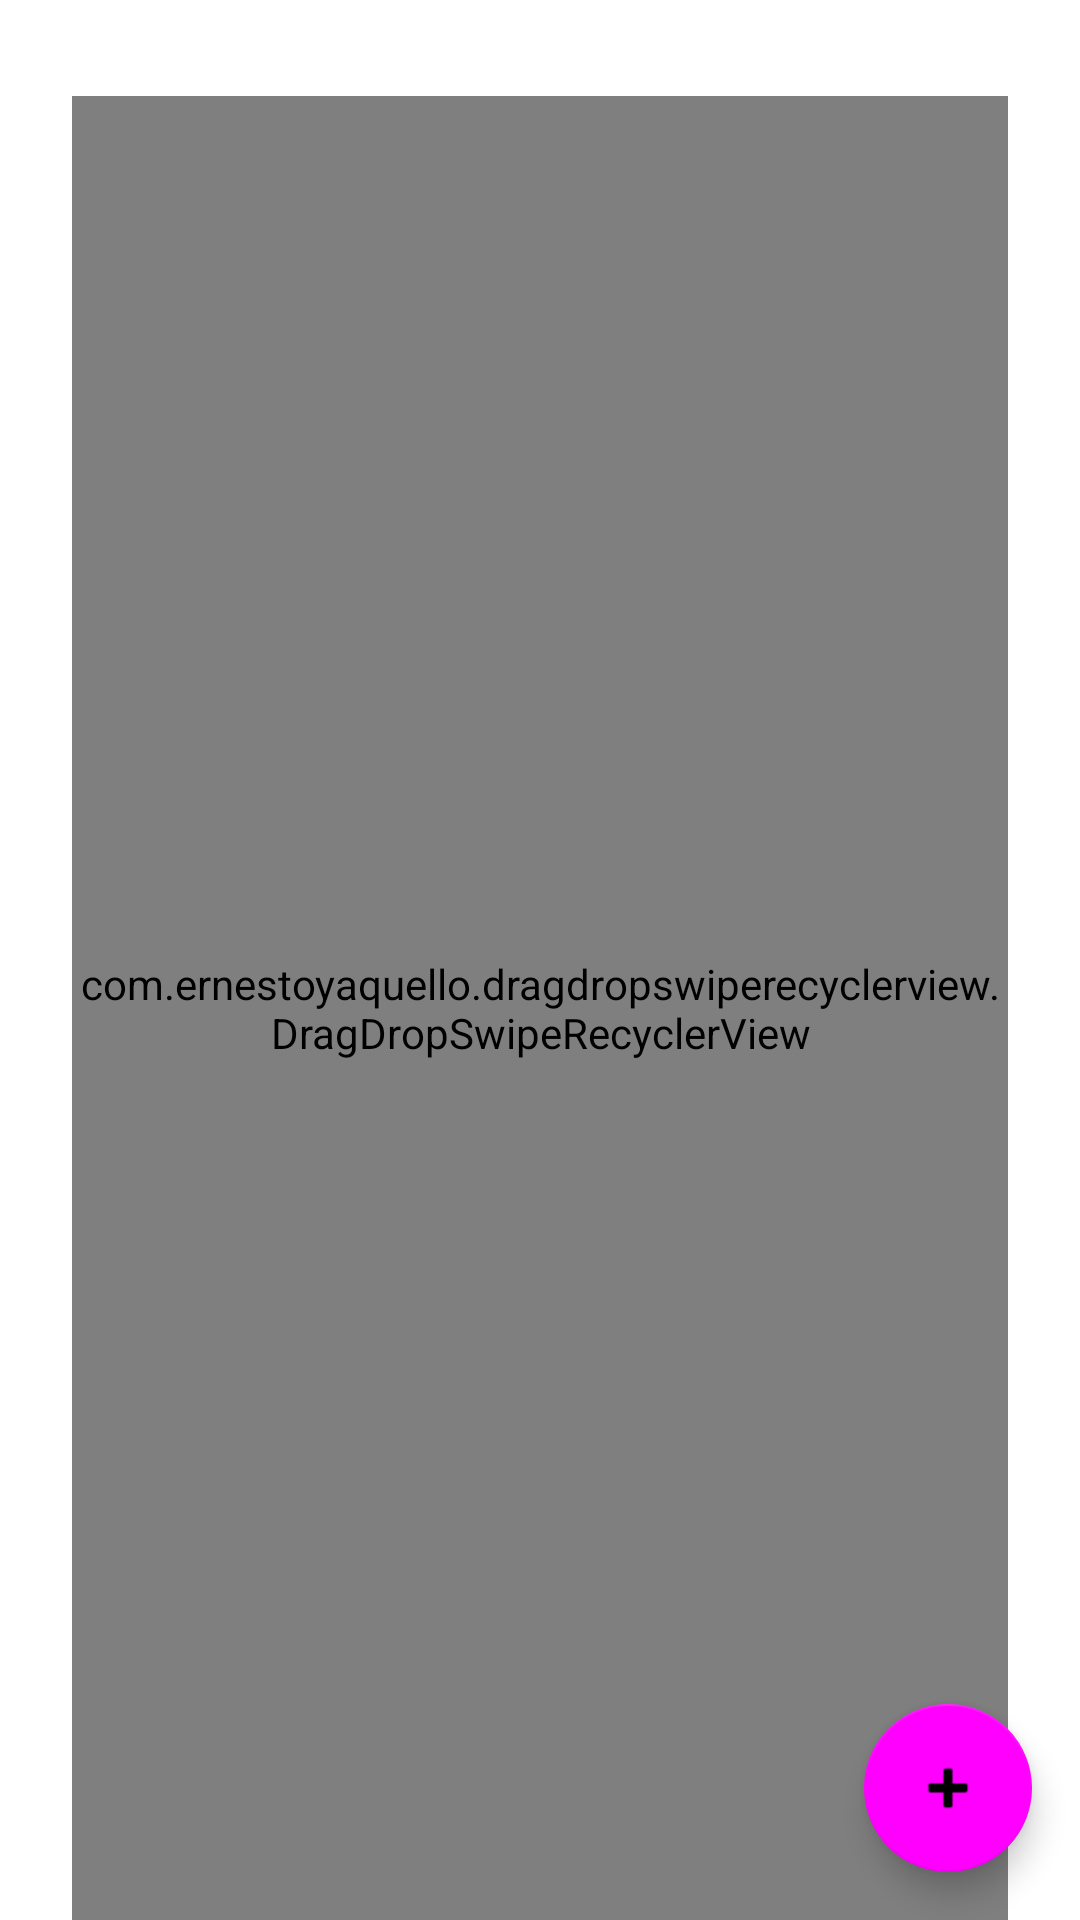

Icon bounding boxes for this 1080px x 1920px phone screenshot, format (x1, y1, x2, y2):
⊕から遊びたいゲームを追加しましょう！: (864, 1704, 1032, 1872)
